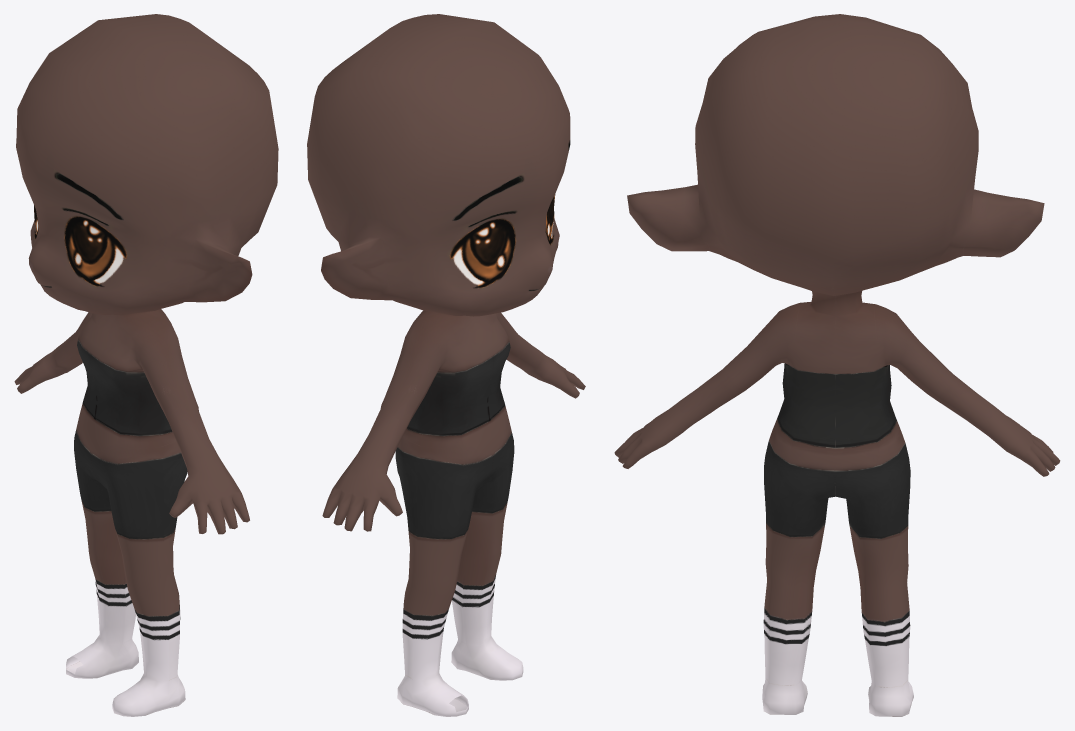
File: miilady_body_darkhazel.gltf
3 views of the same model, side by side, from view 1: azimuth 30°, elevation 25°; view 2: azimuth 150°, elevation 25°; view 3: azimuth 270°, elevation 25° (orthographic). The views are drawn at different scales.
Visible parts, largest first — view 1: Milady_model.001; view 2: Milady_model.001; view 3: Milady_model.001.
Part boxes in pixels (left/top/right/bottom): Milady_model.001: left=14, top=14, right=278, bottom=716; Milady_model.001: left=307, top=14, right=585, bottom=716; Milady_model.001: left=614, top=14, right=1060, bottom=716.
Bounding box in the file's own units: 0.5614 × 1.52 × 0.8957.
1 material, 1 textured.
